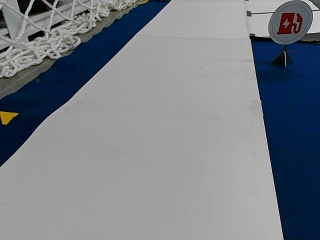battery: (267, 0, 313, 44)
